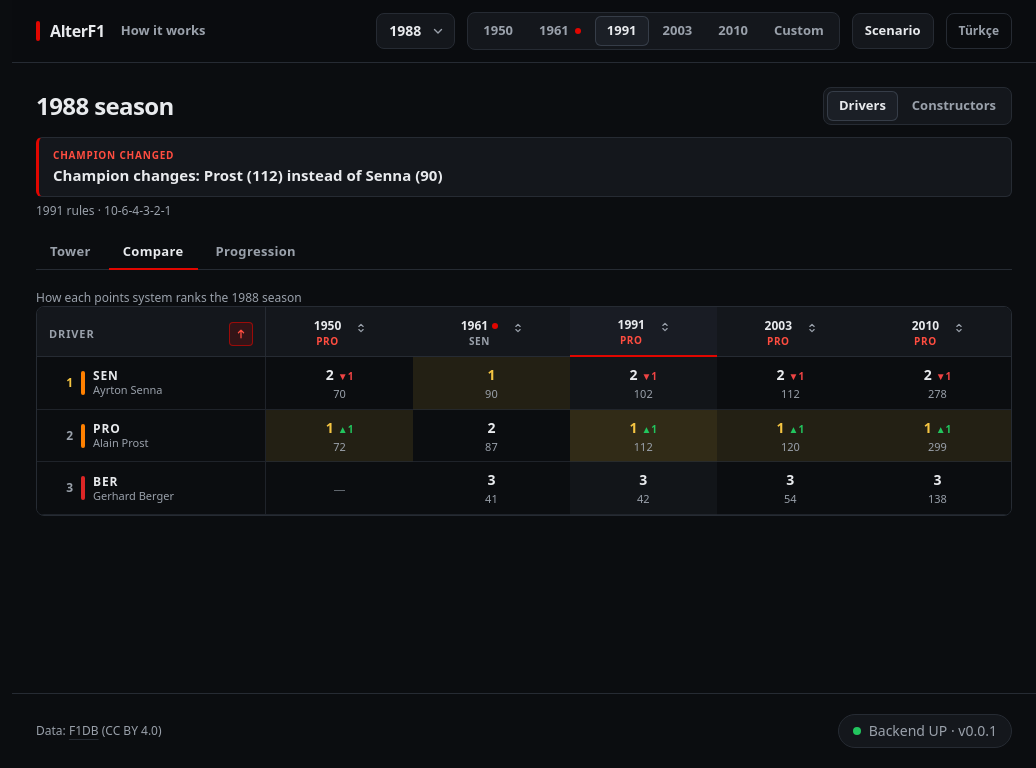
Test: CompareTab › renders system columns and cells, and clicking a column header writes system= while staying on /compare
The width and height of the screenshot is (1036, 768).
expect the text "How each points system ranks the 1988 season" is shown: met, box [36,289,302,306]
expect the button named "Show 1961 system (historical, champion: Senna)" is shown: met, box [455,316,504,348]
Click the button named "Show 1950 system (champion: Prost, changed)" at (328, 332), box [308,316,347,348]
(page scrolled)
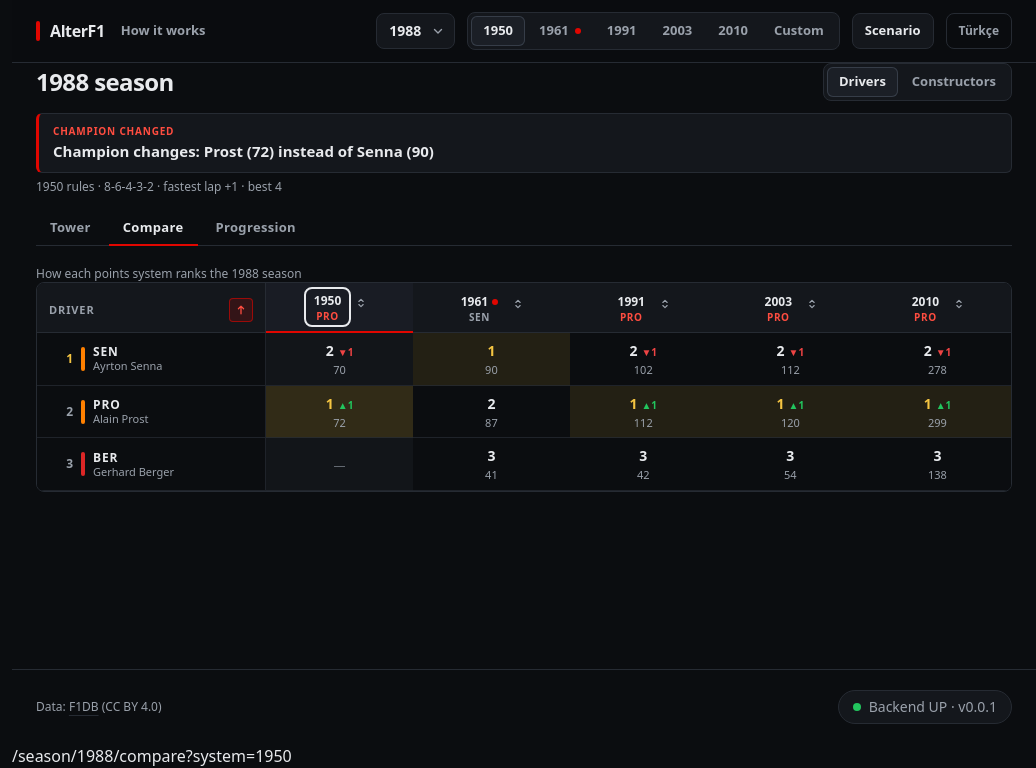
expect the text with test id "location-probe" reads "/season/1988/compare?system=1950": met, box [12,745,292,767]
